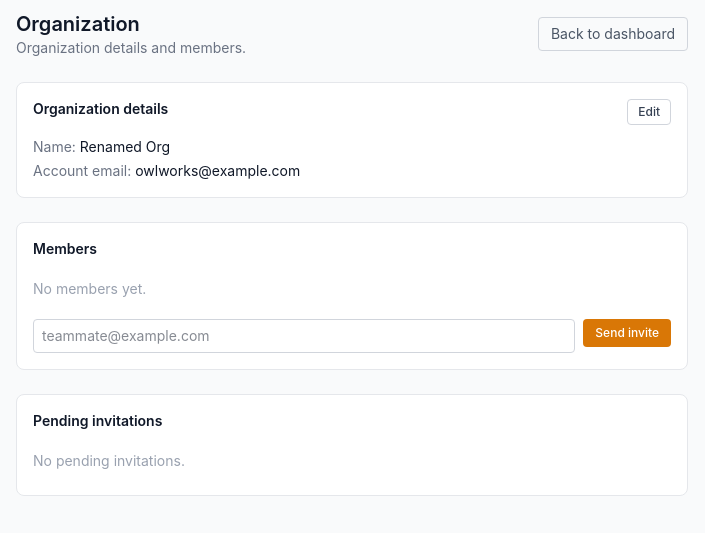
Test: OrganizationPage › shows an inline error when inviting fails
This screenshot has width=705, height=533.
Type "new@example.com" into the field with test id "new-member-email" at (304, 336), box [33,319,575,353]
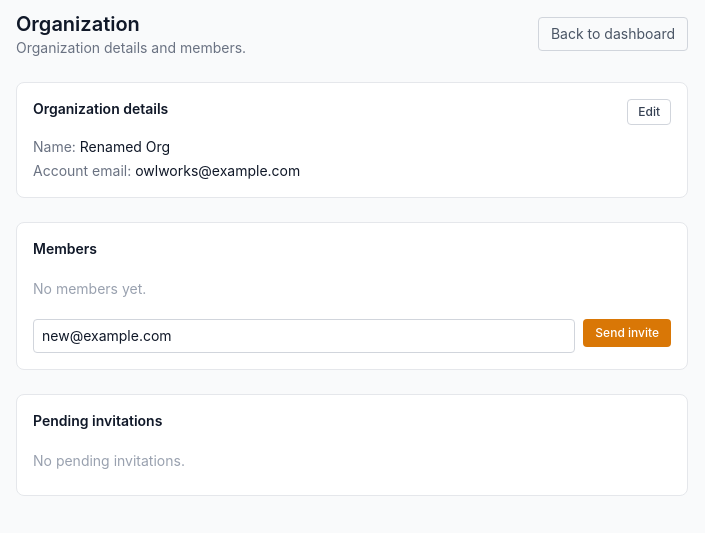
Click the button with test id "send-invite" at (627, 333), box [583,319,671,347]
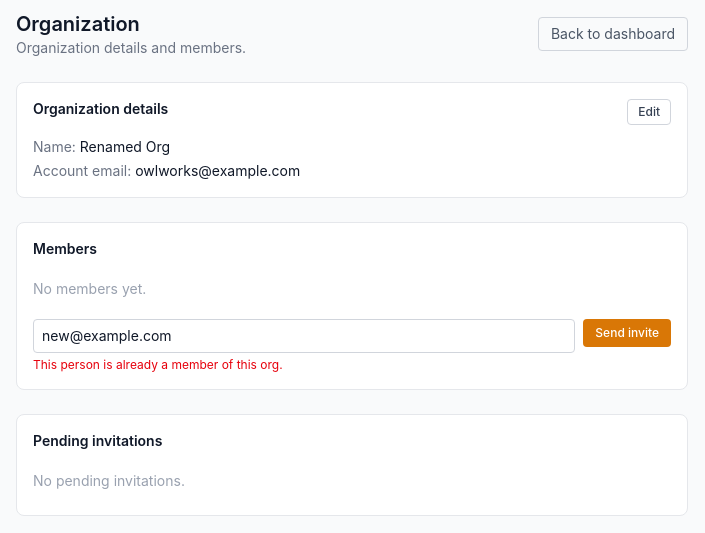
Expected: the text "new@example.com" is not shown
Now the text "This person is already a member of this org." is shown, box [33,357,283,372]
